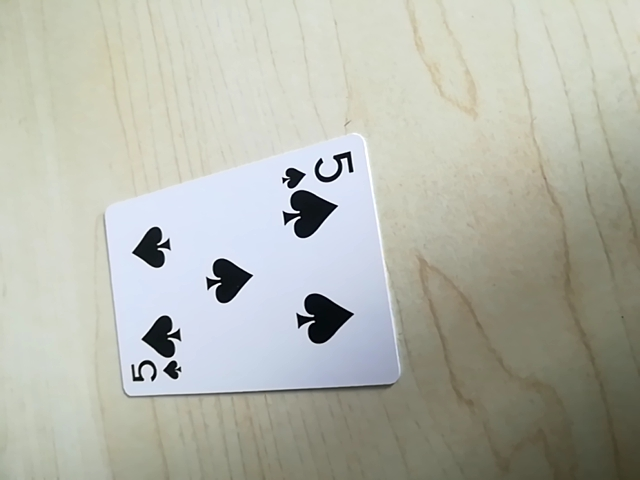ht 5: (279, 148, 359, 188), (121, 353, 188, 393)
